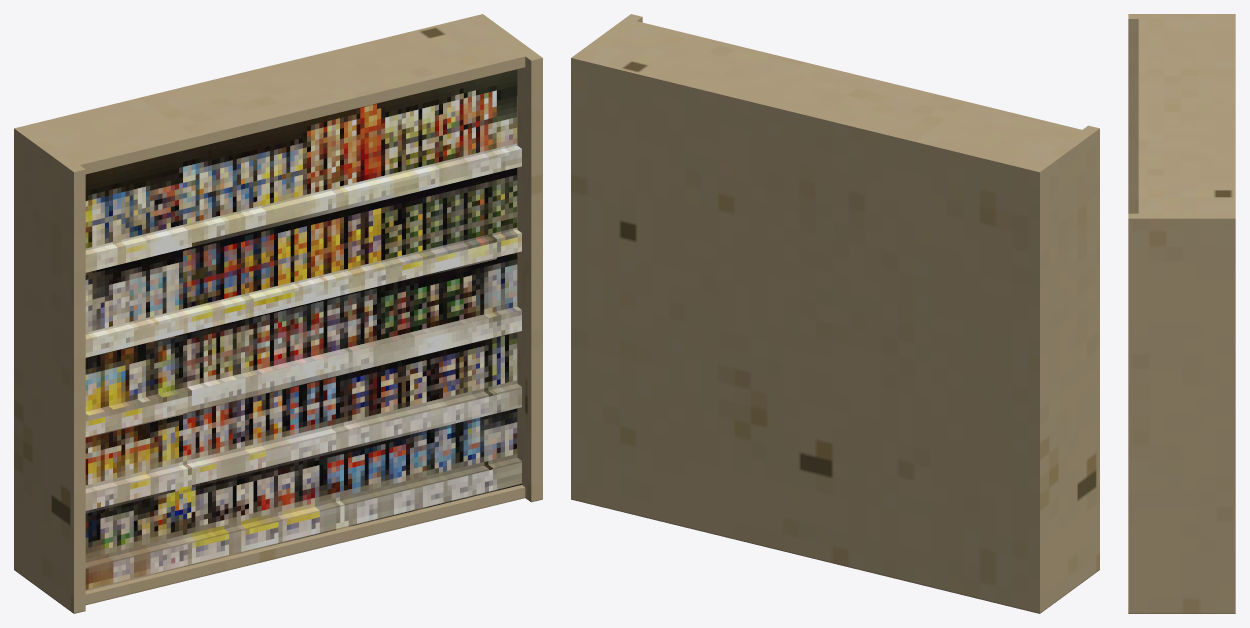
Rendered from Estante_mixto_02.fbx.
3 views of the same model, side by side, from view 1: azimuth 30°, elevation 25°; view 2: azimuth 150°, elevation 25°; view 3: azimuth 270°, elevation 25° (orthographic). The views are drawn at different scales.
Visible parts, largest first — view 1: Estante_mixto_02; view 2: Estante_mixto_02; view 3: Estante_mixto_02.
Part boxes in pixels (x1,y1,x2,y2): Estante_mixto_02: (14, 14, 542, 613); Estante_mixto_02: (571, 14, 1099, 613); Estante_mixto_02: (1128, 14, 1235, 613).
Size of the model in its own units: 200 by 180 by 44.36.
Materials: 1 (1 with a texture image).
